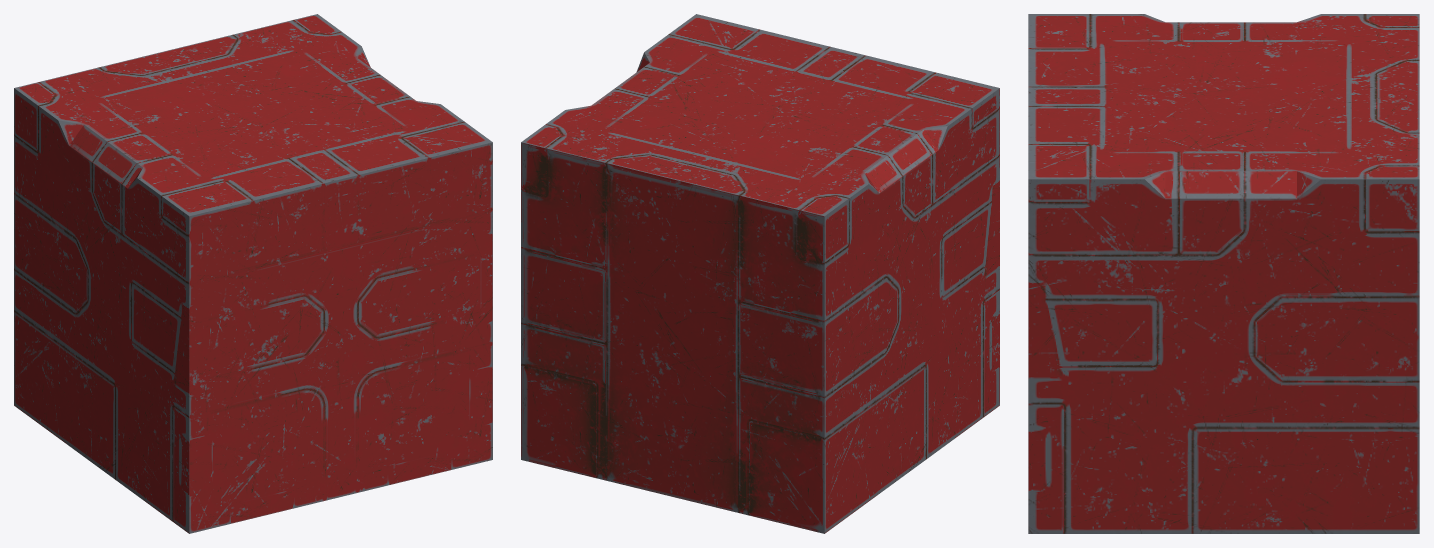
Rendered from Box_normal.gltf.
3 views of the same model, side by side, from view 1: azimuth 30°, elevation 25°; view 2: azimuth 150°, elevation 25°; view 3: azimuth 270°, elevation 25° (orthographic). The views are drawn at different scales.
Parts seen in each view (by area): view 1: Node1; view 2: Node1; view 3: Node1.
Part boxes in pixels (box(x1,y1,x2,y2)): Node1: box(14, 14, 492, 533); Node1: box(521, 14, 999, 533); Node1: box(1028, 14, 1419, 533).
Size of the model in its own units: 1.99 by 1.99 by 1.99.
1 material, 1 textured.
